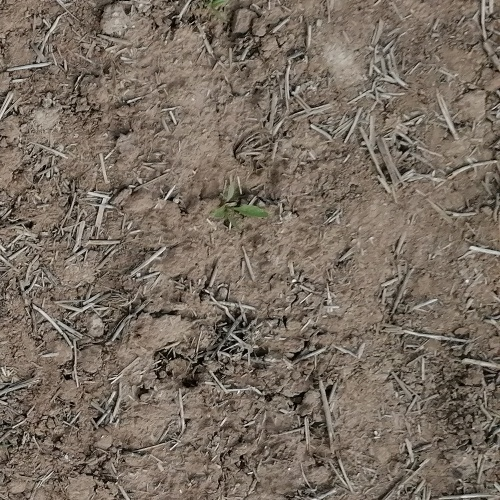beet: (214, 203, 269, 228)
